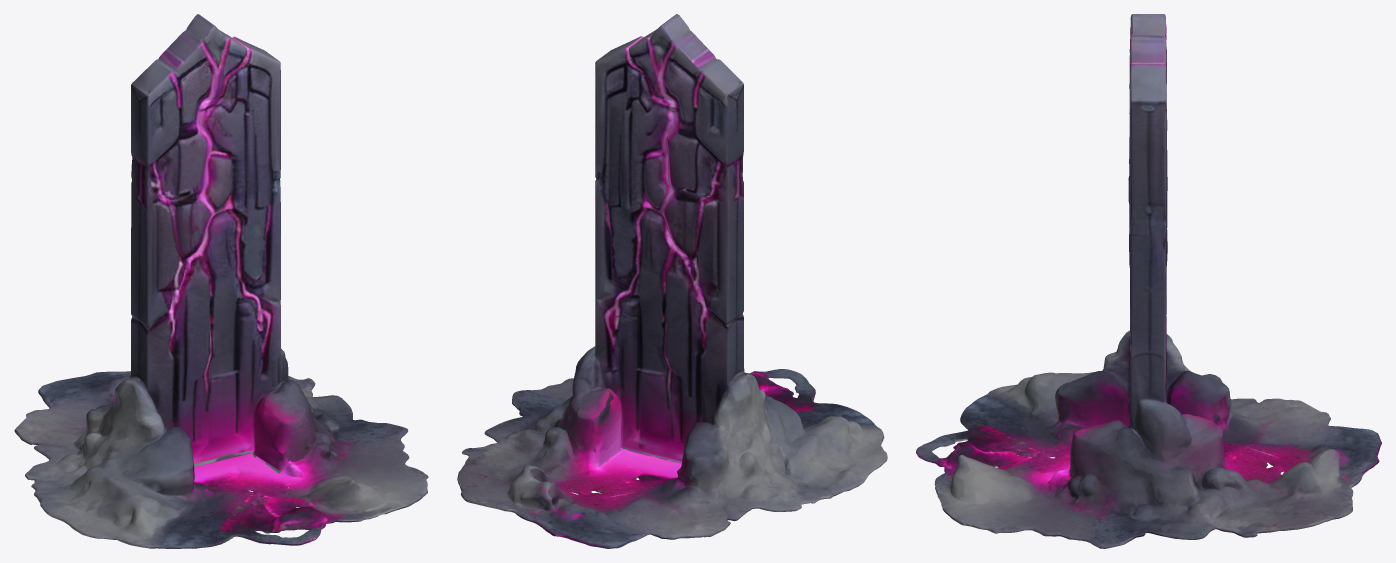
Rendered from weathered-monolith-pillar-generated-2026-05-17T19-13-21-731Z.medium.glb.
3 renders of one model, left to right at view 1: azimuth 30°, elevation 25°; view 2: azimuth 150°, elevation 25°; view 3: azimuth 270°, elevation 25°, orthographic. The views are drawn at different scales.
Visible parts, largest first — view 1: temp_mesh.ply; view 2: temp_mesh.ply; view 3: temp_mesh.ply.
Part boxes in pixels (left/top/right/bottom): temp_mesh.ply: left=14, top=14, right=428, bottom=548; temp_mesh.ply: left=457, top=14, right=887, bottom=548; temp_mesh.ply: left=916, top=14, right=1381, bottom=548.
Bounding box in the file's own units: 1.67 × 1.96 × 1.86.
Materials: 1 (1 with a texture image).
